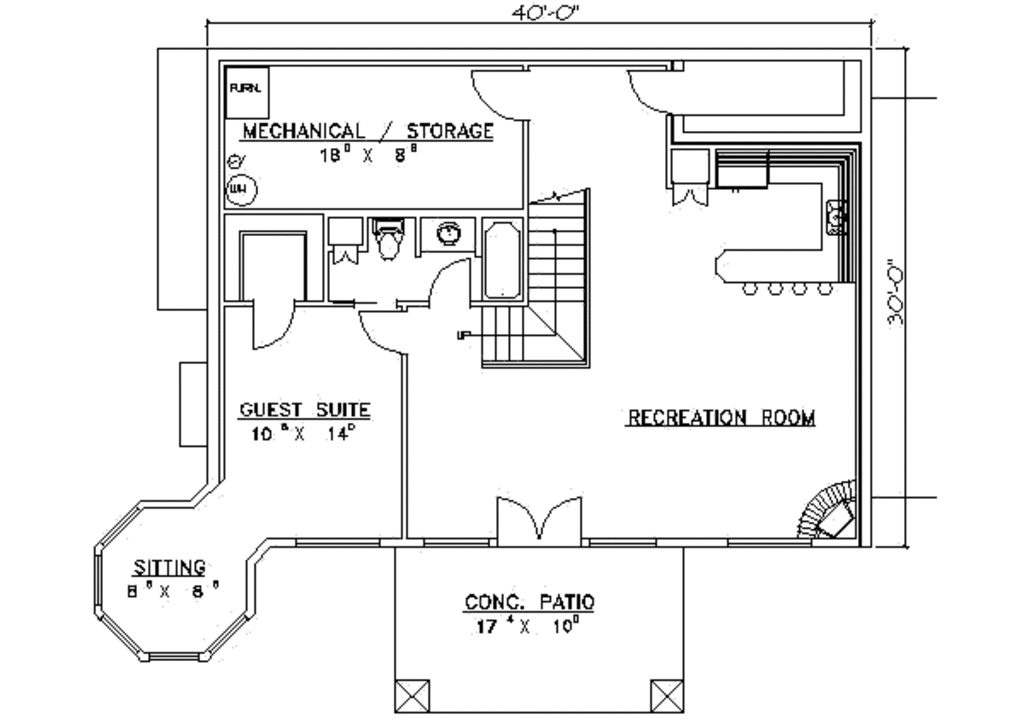door: (478, 489, 590, 553), (469, 63, 537, 120), (614, 61, 681, 116), (351, 301, 411, 362), (247, 299, 299, 356), (426, 255, 474, 310), (668, 176, 712, 213)
kitchen_bar: (714, 235, 850, 304)
large_sink: (373, 220, 407, 264)
small_sink: (416, 212, 477, 254)
stairs: (456, 182, 616, 376)
tub: (482, 218, 527, 307)
window: (298, 530, 381, 553), (418, 533, 494, 557), (585, 531, 663, 554), (723, 533, 821, 548)
